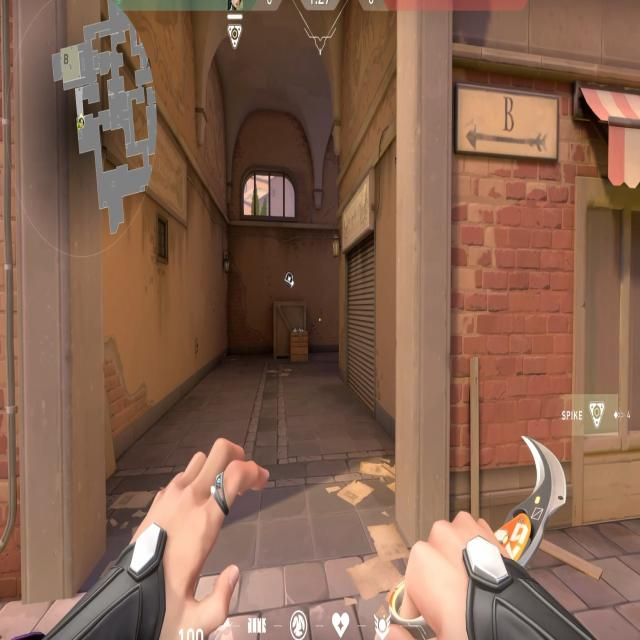B_Main_Wallbang: (254, 265, 297, 357)
